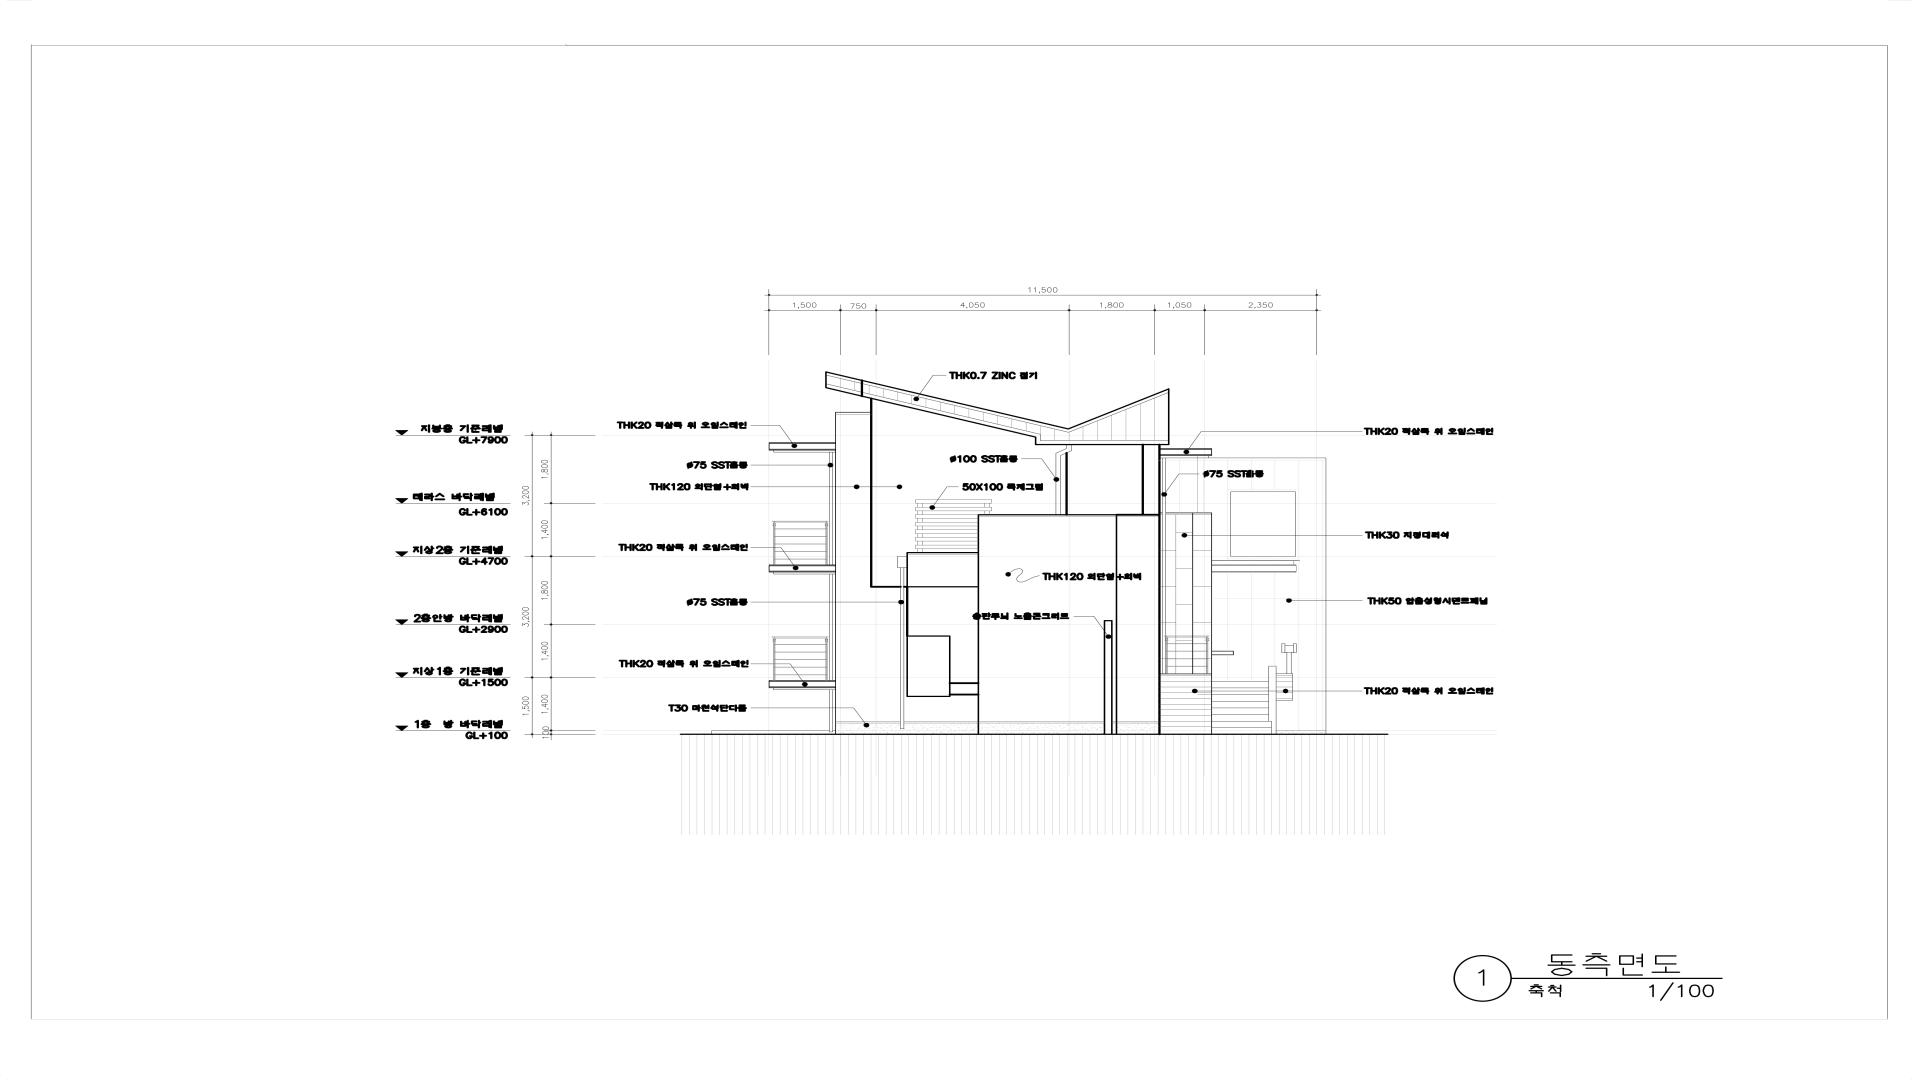wall: (825, 371, 1326, 735)
window: (1231, 492, 1296, 557), (907, 636, 950, 696)
